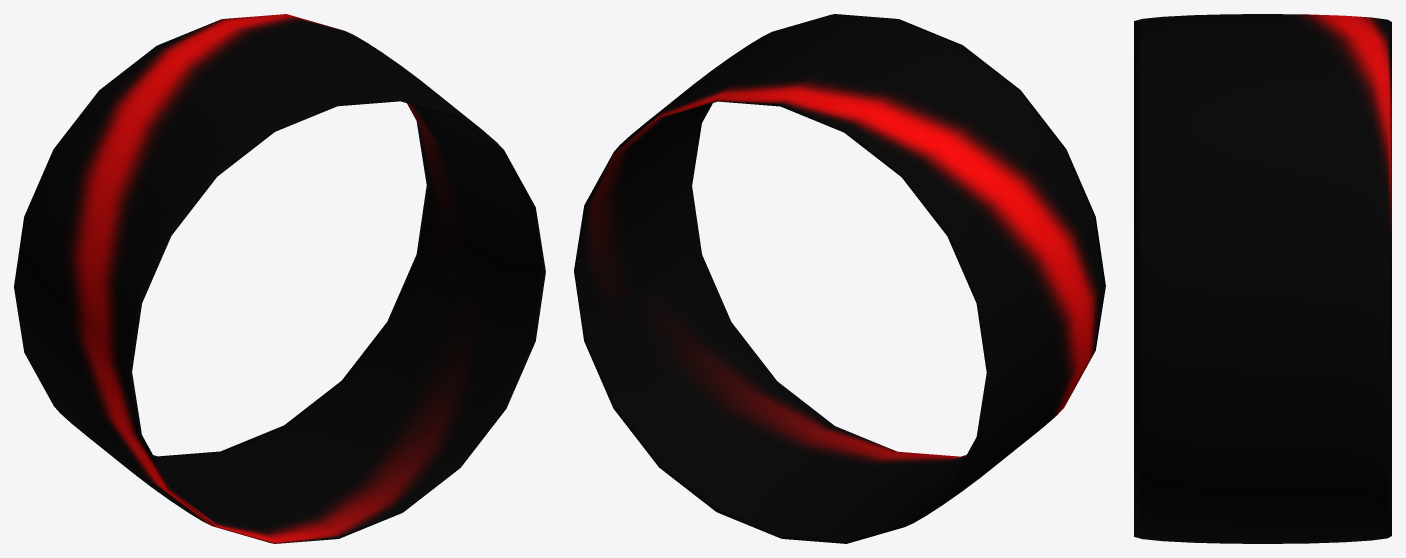
The model's file is SM_TotemCollisionTorus.glb.
3 renders of one model, left to right at view 1: azimuth 30°, elevation 25°; view 2: azimuth 150°, elevation 25°; view 3: azimuth 270°, elevation 25°, orthographic. The views are drawn at different scales.
Parts seen in each view (by area): view 1: SM_TotemCollisionTorus.001; view 2: SM_TotemCollisionTorus.001; view 3: SM_TotemCollisionTorus.001.
Boxes of the visible parts, left/top/right/bottom form: SM_TotemCollisionTorus.001: left=14, top=14, right=545, bottom=543; SM_TotemCollisionTorus.001: left=574, top=14, right=1105, bottom=543; SM_TotemCollisionTorus.001: left=1134, top=14, right=1391, bottom=543.
Size of the model in its own units: 369 by 369 by 178.
1 material, 1 textured.
